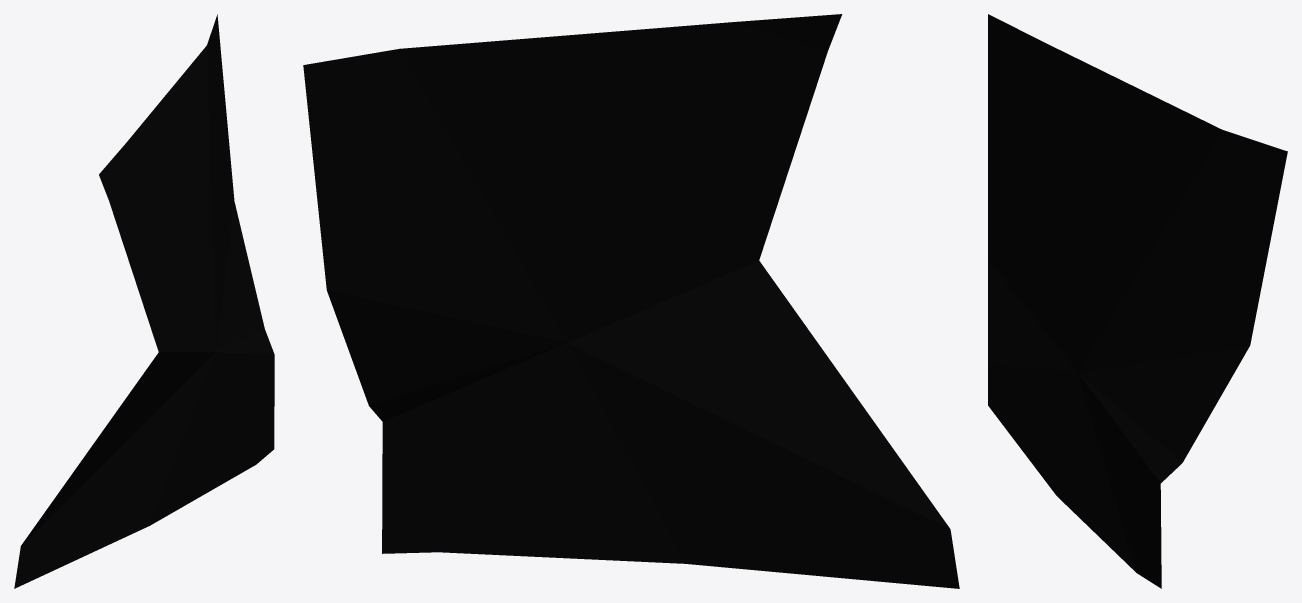
3 views of the same model, side by side, from view 1: azimuth 30°, elevation 25°; view 2: azimuth 150°, elevation 25°; view 3: azimuth 270°, elevation 25° (orthographic). The views are drawn at different scales.
Bounding box in the file's own units: 2.65 × 2.95 × 1.83.
2 materials, 2 textured.
